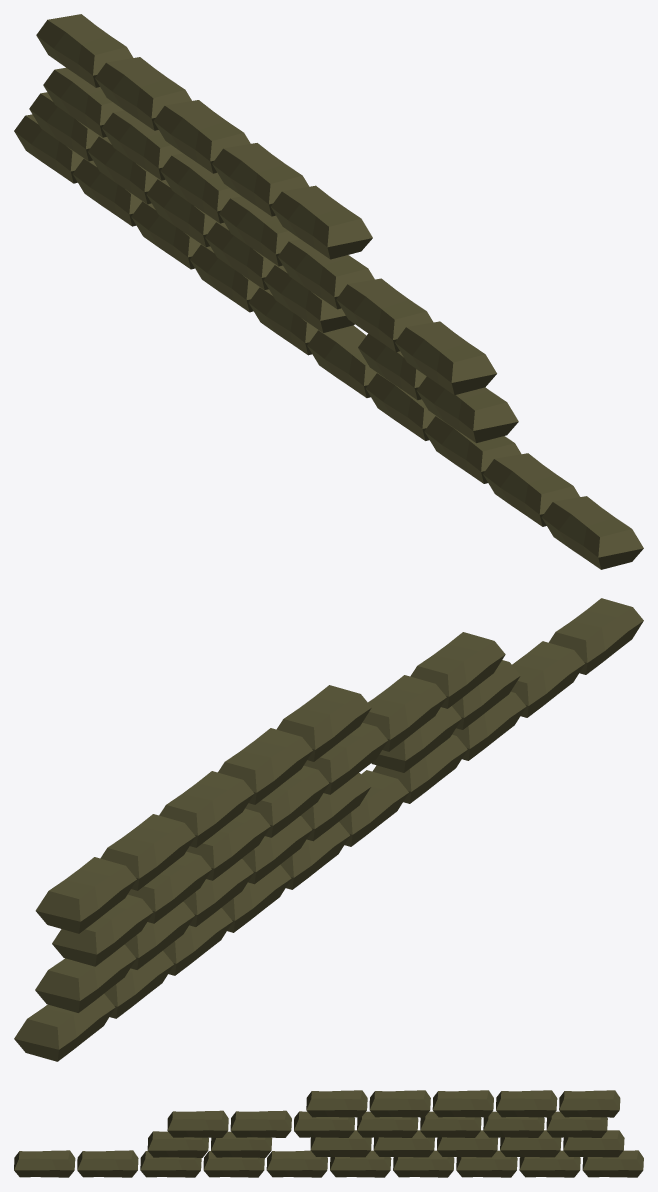
Rendered from Barricade_4.obj.
The picture shows the model from 3 angles, top to bottom: view 1: azimuth 30°, elevation 25°; view 2: azimuth 150°, elevation 25°; view 3: azimuth 270°, elevation 25°; orthographic projection. The views are drawn at different scales.
Visible parts, largest first — view 1: Cube.102; view 2: Cube.102; view 3: Cube.102.
Part boxes in pixels (x1,y1,x2,y2): Cube.102: (14,14,643,569); Cube.102: (14,598,643,1061); Cube.102: (14,1090,643,1177).
Bounding box in the file's own units: 0.2636 × 0.7315 × 5.28.
